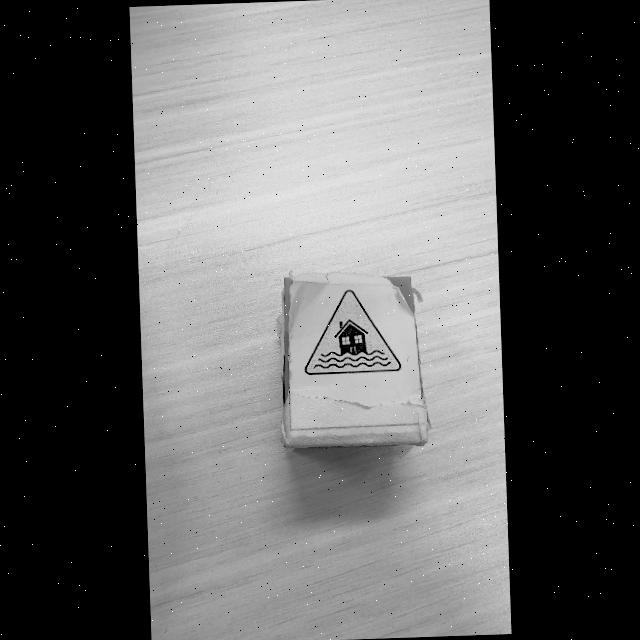Tsunami: (305, 289, 401, 375)
